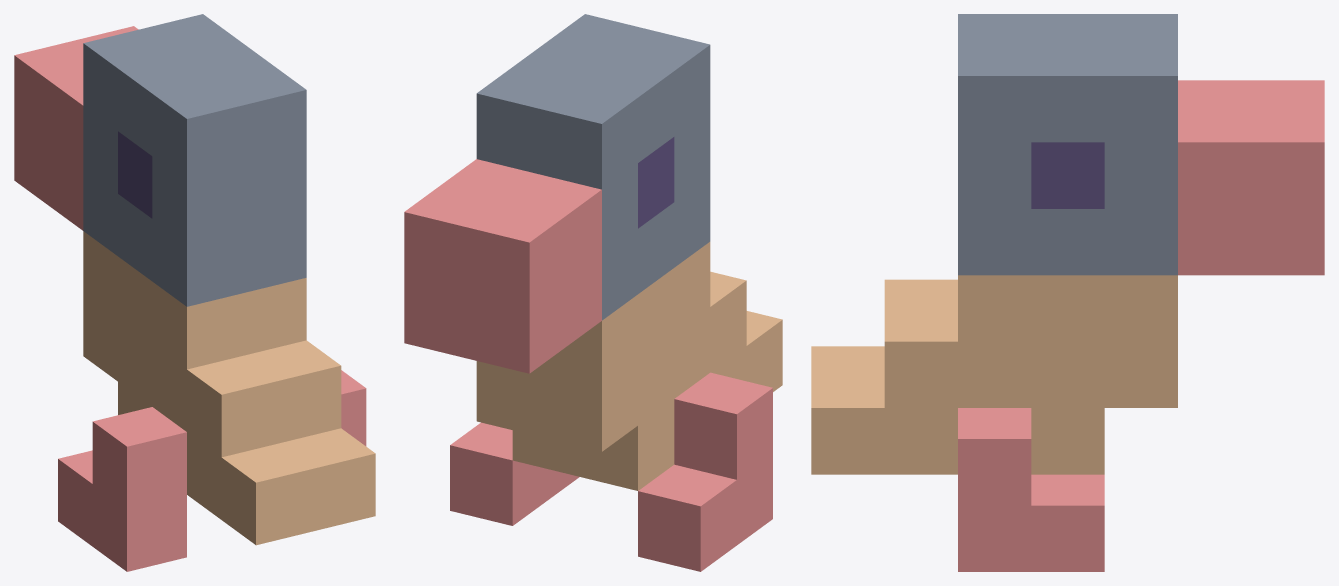
File: chicken_1.gltf
The picture shows the model from 3 angles, left to right: view 1: azimuth 30°, elevation 25°; view 2: azimuth 150°, elevation 25°; view 3: azimuth 270°, elevation 25°; orthographic projection. The views are drawn at different scales.
Parts seen in each view (by area): view 1: unnamed; view 2: unnamed; view 3: unnamed.
Boxes of the visible parts, x1=… form: unnamed: x1=14, y1=14, x2=375, y2=571; unnamed: x1=404, y1=14, x2=782, y2=571; unnamed: x1=811, y1=14, x2=1324, y2=571.
Size of the model in its own units: 4 by 7 by 7.
4 materials, 4 textured.
